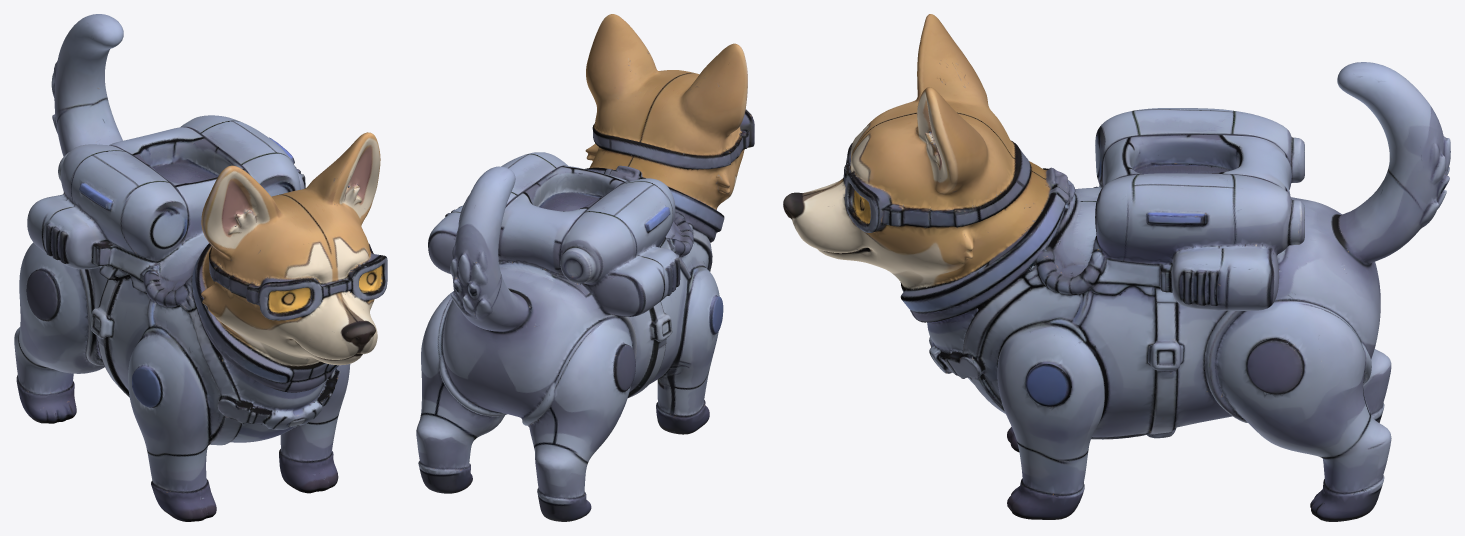
Rendered from Meshy_AI_Corgi_Astronaut_0413220835_texture.fbx.
3 renders of one model, left to right at view 1: azimuth 30°, elevation 25°; view 2: azimuth 150°, elevation 25°; view 3: azimuth 270°, elevation 25°, orthographic. The views are drawn at different scales.
Visible parts, largest first — view 1: Mesh1.0; view 2: Mesh1.0; view 3: Mesh1.0.
Part boxes in pixels (x1,y1,x2,y2): Mesh1.0: (14,14,387,521); Mesh1.0: (416,14,754,521); Mesh1.0: (783,14,1450,521).
Bounding box in the file's own units: 91.49 × 135 × 191.
Materials: 1 (1 with a texture image).
